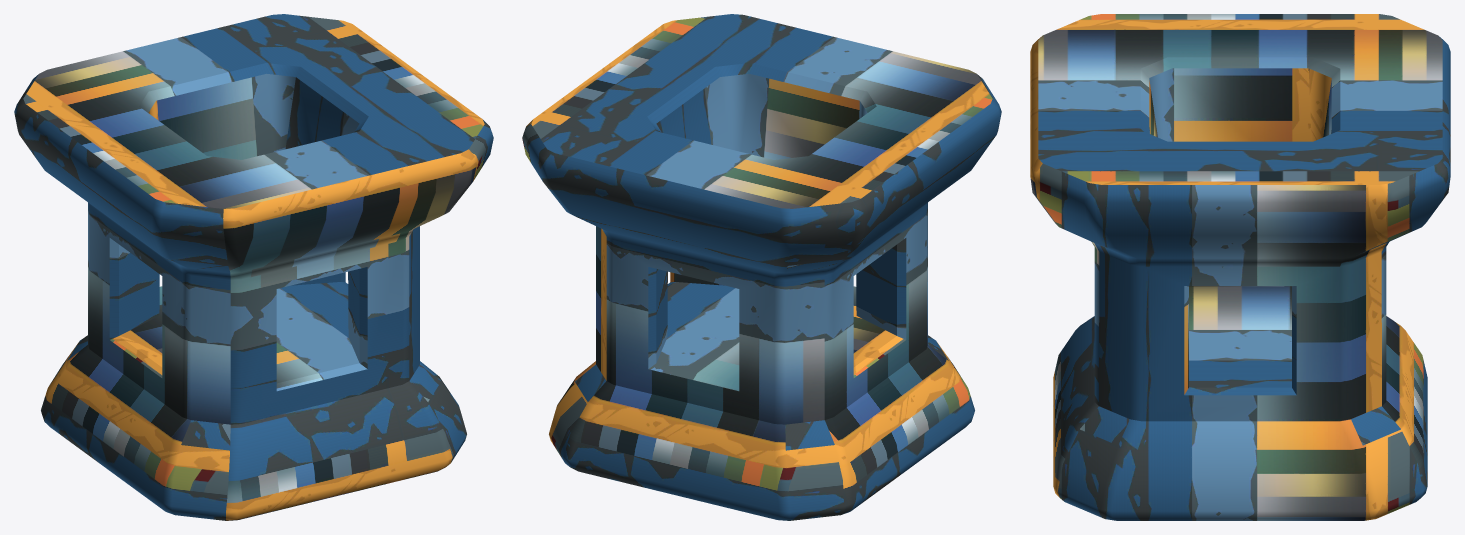
Rendered from Prop_Brazier2.glb.
3 renders of one model, left to right at view 1: azimuth 30°, elevation 25°; view 2: azimuth 150°, elevation 25°; view 3: azimuth 270°, elevation 25°, orthographic. The views are drawn at different scales.
Parts seen in each view (by area): view 1: Prop_Brazier2; view 2: Prop_Brazier2; view 3: Prop_Brazier2.
Boxes of the visible parts, x1=… form: Prop_Brazier2: x1=14, y1=14, x2=493, y2=520; Prop_Brazier2: x1=522, y1=14, x2=1001, y2=520; Prop_Brazier2: x1=1030, y1=14, x2=1450, y2=520.
Bounding box in the file's own units: 0.5386 × 0.4879 × 0.5386.
1 material, 1 textured.
